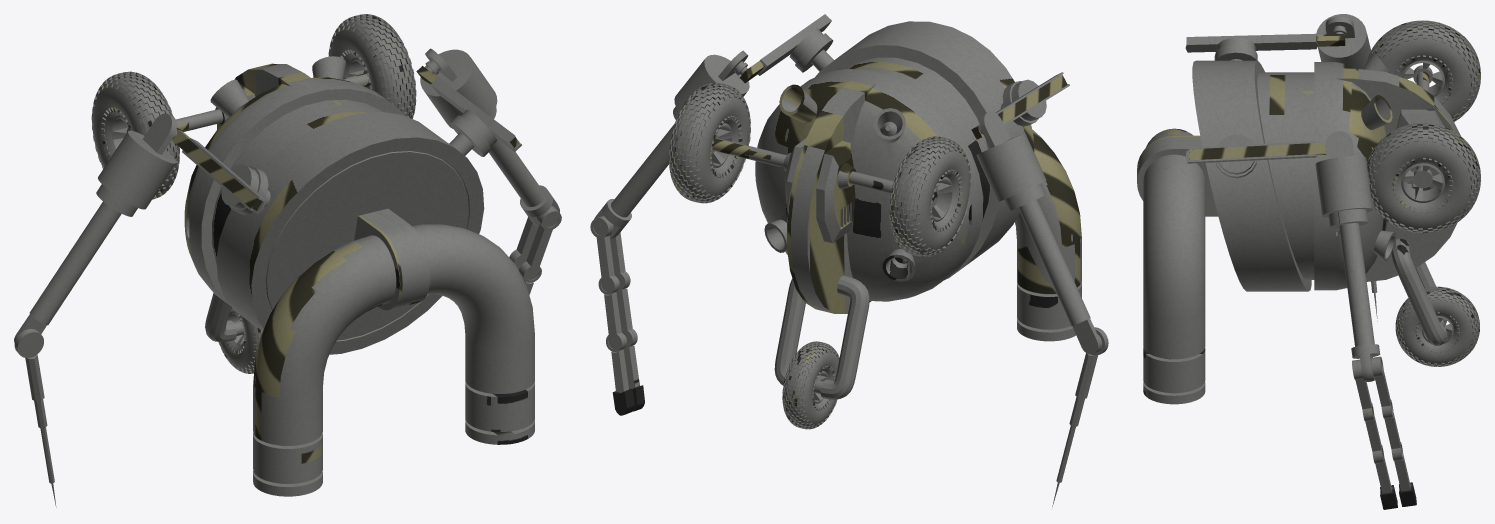
The model's file is roboto.gltf.
3 renders of one model, left to right at view 1: azimuth 30°, elevation 25°; view 2: azimuth 150°, elevation 25°; view 3: azimuth 270°, elevation 25°, orthographic. The views are drawn at different scales.
Parts seen in each view (by area): view 1: Ainouit; view 2: Ainouit; view 3: Ainouit.
Boxes of the visible parts, left/top/right/bottom form: Ainouit: left=14, top=14, right=561, bottom=506; Ainouit: left=590, top=14, right=1108, bottom=506; Ainouit: left=1137, top=14, right=1480, bottom=509.
Bounding box in the file's own units: 1 × 0.6832 × 0.6142.
1 material, 1 textured.
